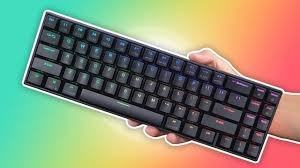keyboard: (7, 9, 286, 164)
